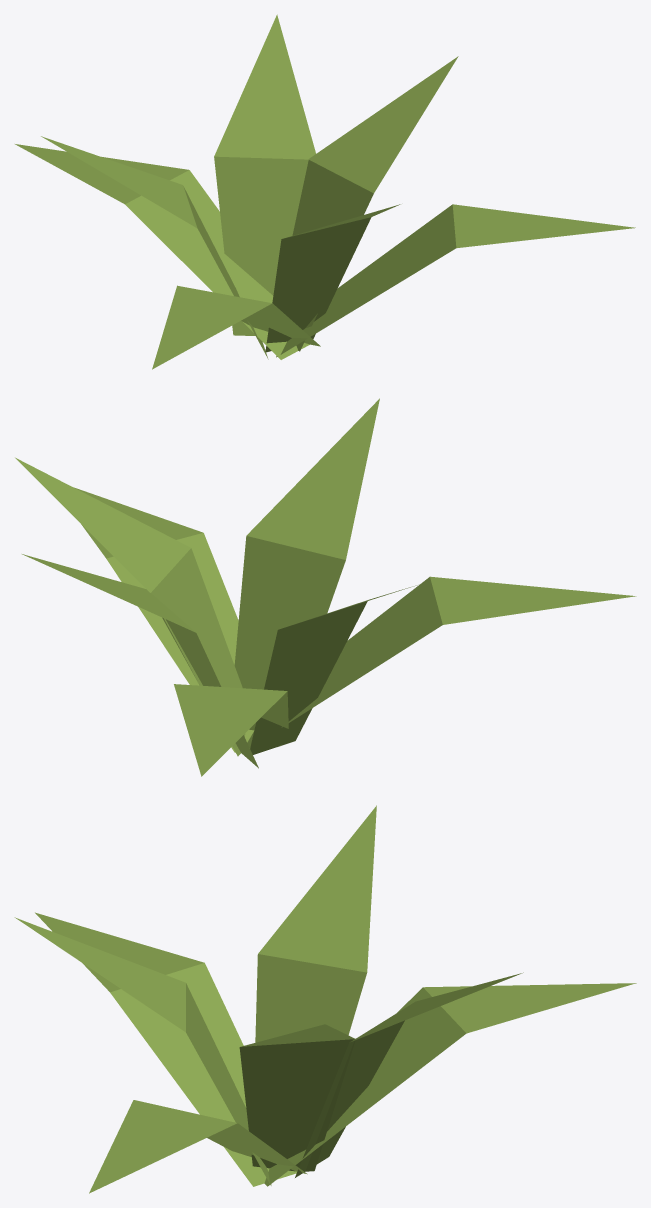
Rendered from grass_05.fbx.
The picture shows the model from 3 angles, top to bottom: view 1: azimuth 30°, elevation 25°; view 2: azimuth 150°, elevation 25°; view 3: azimuth 270°, elevation 25°; orthographic projection. The views are drawn at different scales.
Parts seen in each view (by area): view 1: grass_05; view 2: grass_05; view 3: grass_05.
Boxes of the visible parts, x1,y1,x2,y2 form: grass_05: [15, 14, 635, 369]; grass_05: [15, 398, 636, 776]; grass_05: [14, 805, 636, 1193].
Bounding box in the file's own units: 90.02 × 38.24 × 84.23.
